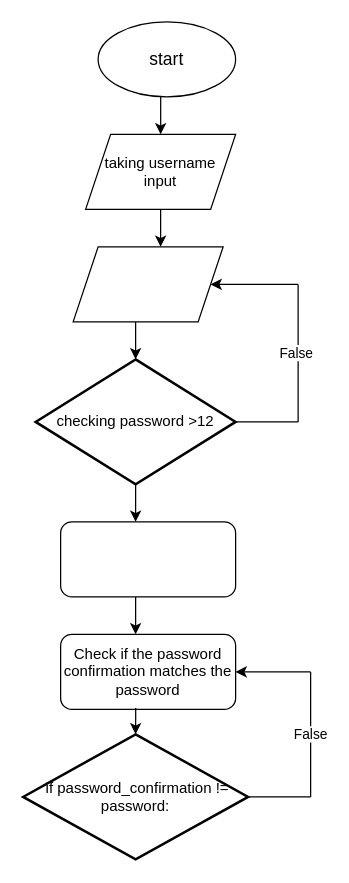
The diagram is 349 pixels wide and 883 high, and some of its shapes have lost their labels. The centre of each missing label's shape, as x and y in pixels:
password_confirmation input("Please re-enter your password: "): point 147,559
taking input of password: point 147,284
